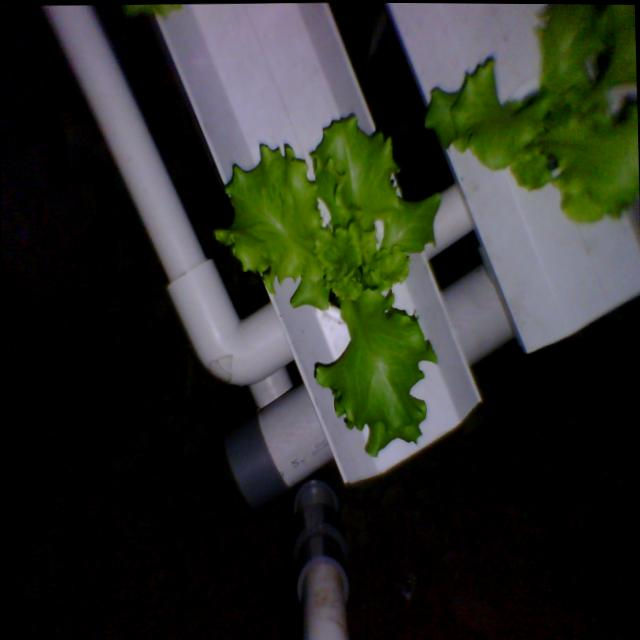FN: (207, 107, 454, 474), (411, 3, 640, 237)
